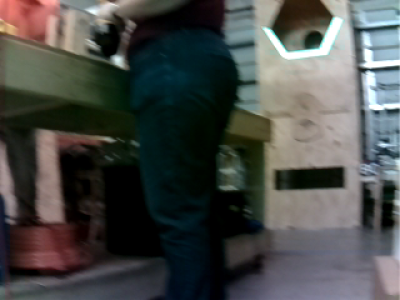target: (260, 17, 343, 60)
